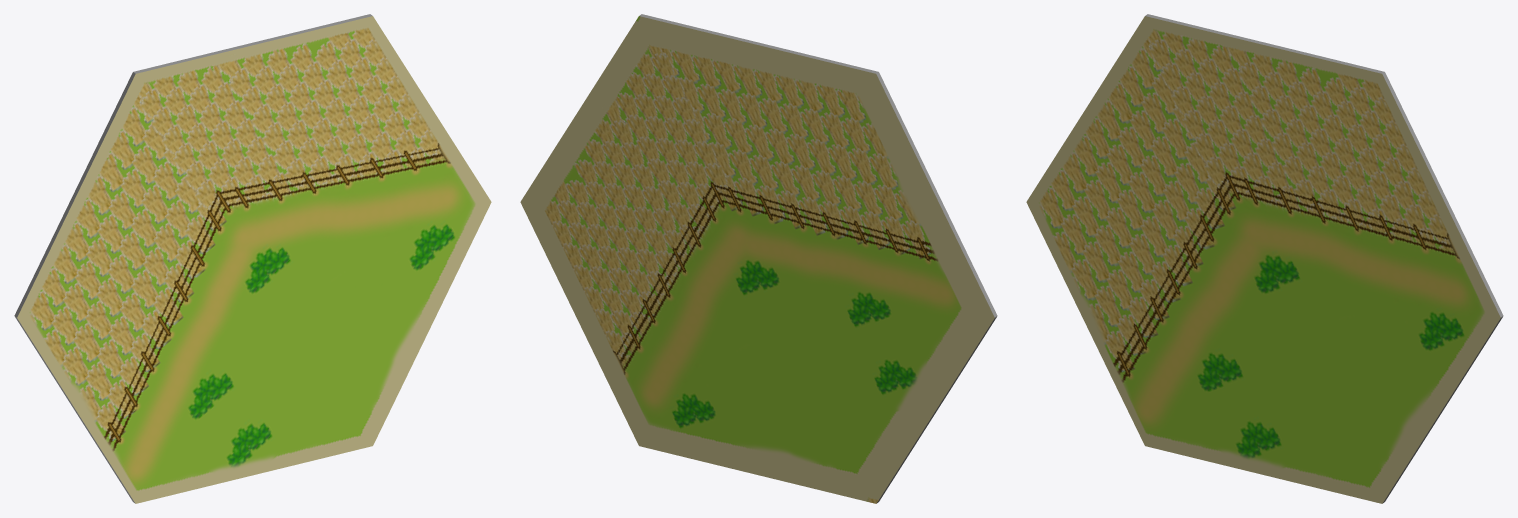
Rendered from Grain_Map.FBX.
3 views of the same model, side by side, from view 1: azimuth 30°, elevation 25°; view 2: azimuth 150°, elevation 25°; view 3: azimuth 330°, elevation 25° (orthographic).
Parts seen in each view (by area): view 1: Gengon001; view 2: Gengon001; view 3: Gengon001.
Part boxes in pixels (x1=…): Gengon001: x1=14, y1=14, x2=491, y2=503; Gengon001: x1=520, y1=14, x2=997, y2=503; Gengon001: x1=1026, y1=14, x2=1503, y2=503.
Bounding box in the file's own units: 20 × 0.2 × 17.32.
Materials: 3 (2 with a texture image).
